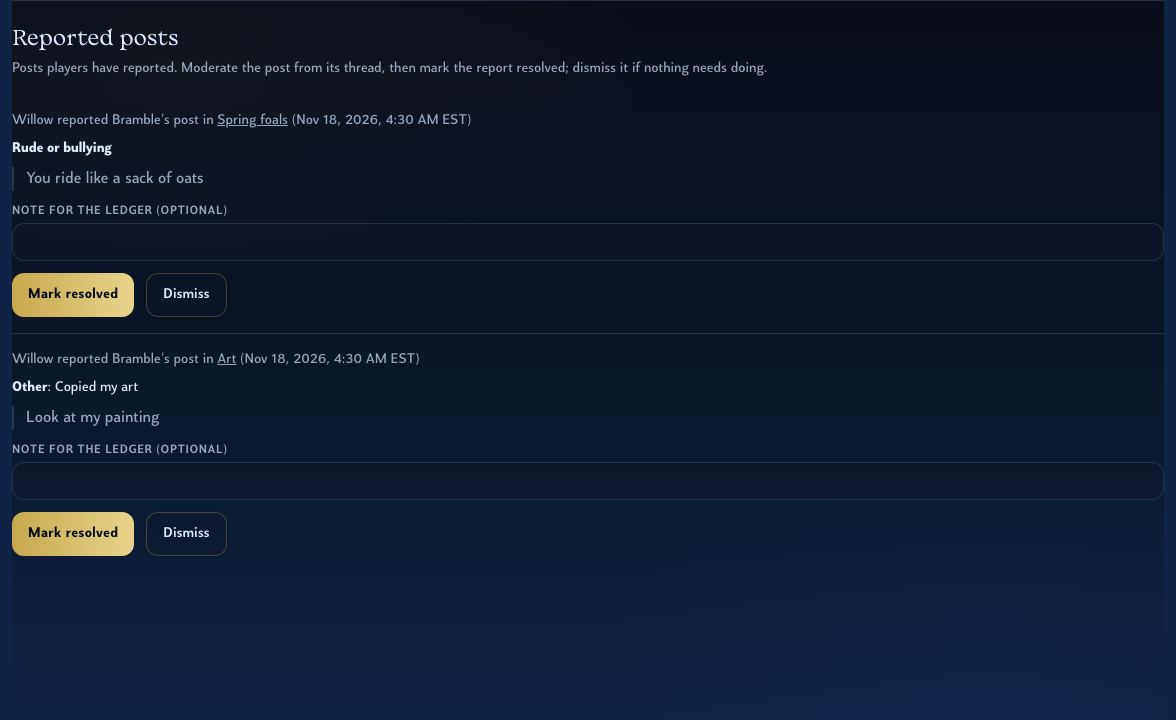
it: StaffForumReports › dismissing without a note sends no reason
The image size is (1176, 720).
Click the button "Dismiss" below "Other" at coordinates (186, 534), box [146,512,227,556]
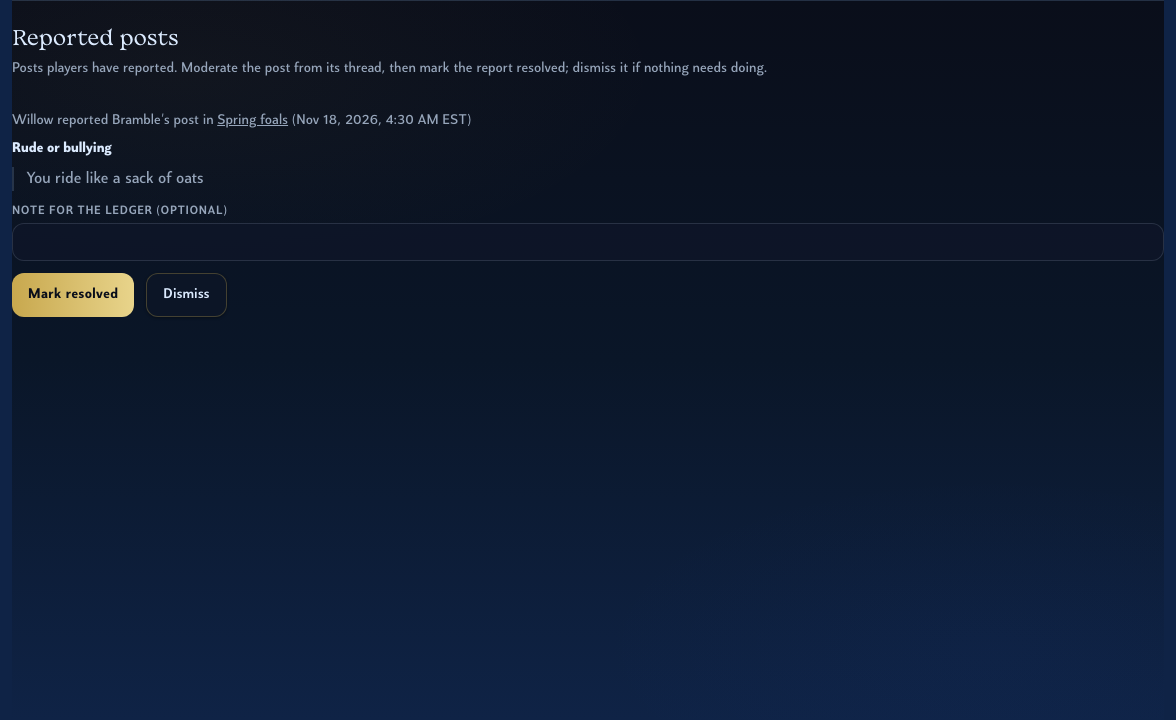
Expected: the list item with test id "forum-report-6" is gone
